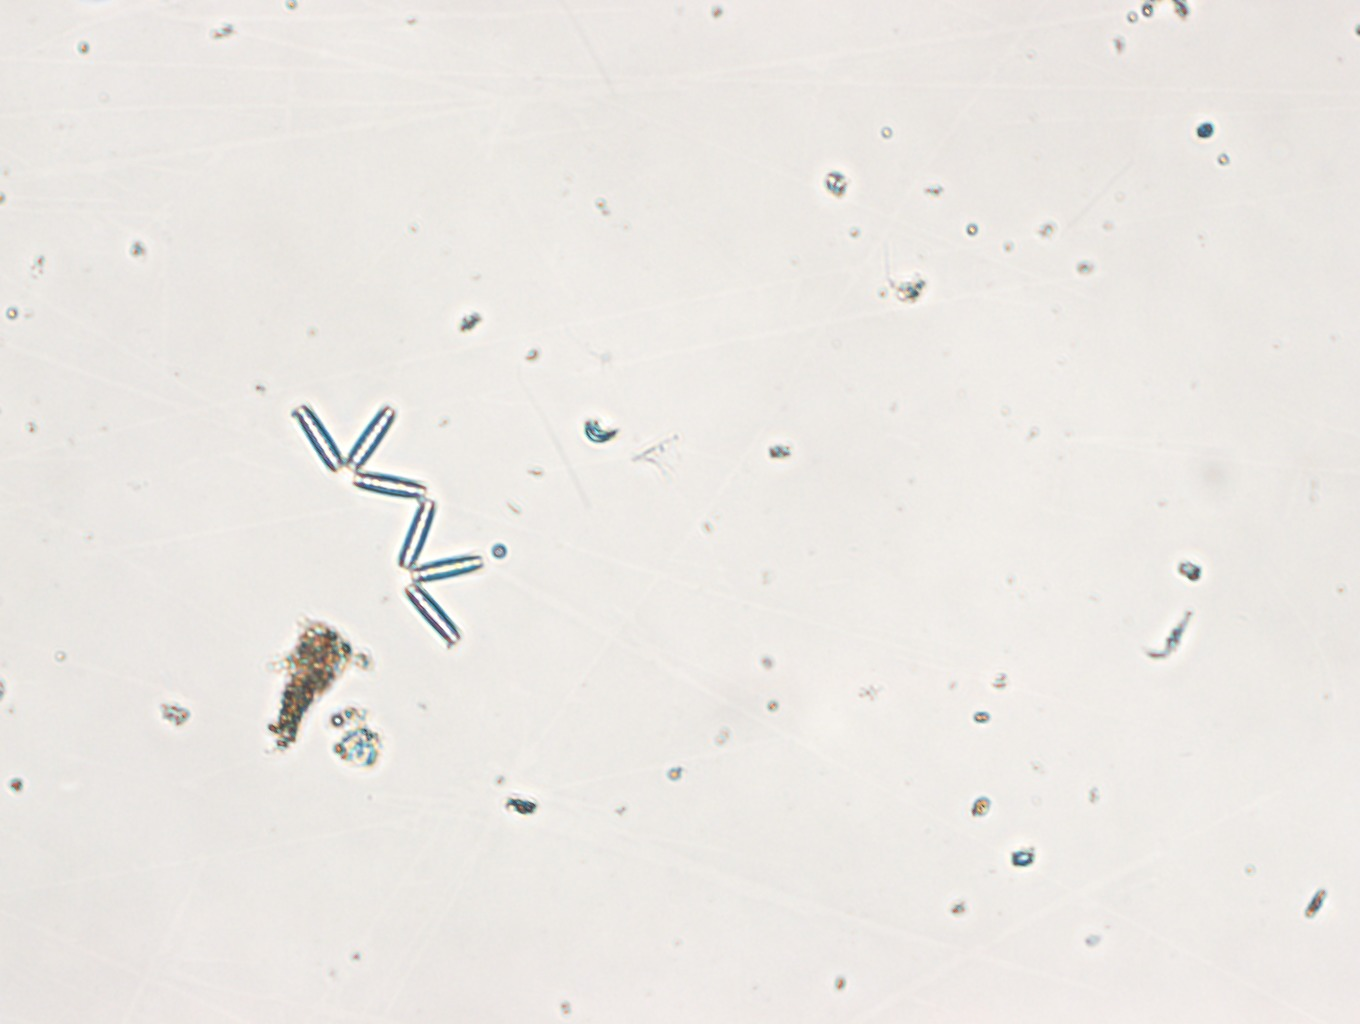thalassionema nitzschioides: (289, 402, 486, 645)
